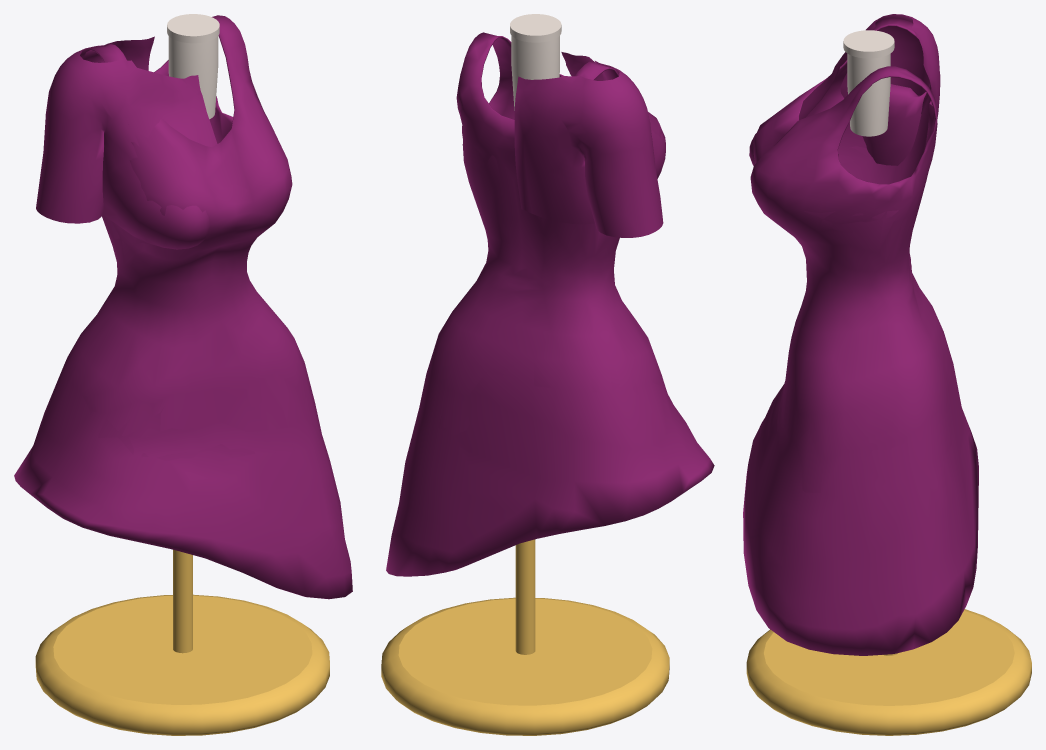
Rendered from rain.dress.plum-asymmetric.glb.
3 views of the same model, side by side, from view 1: azimuth 30°, elevation 25°; view 2: azimuth 150°, elevation 25°; view 3: azimuth 270°, elevation 25° (orthographic). The views are drawn at different scales.
Parts seen in each view (by area): view 1: Tailored.Dress.plum-asymmetric.Fabric, stand_base, Tailored.Dress.plum-asymmetric.Cape, stand_torso, stand_stem, stand_neck_cap; view 2: Tailored.Dress.plum-asymmetric.Fabric, stand_base, Tailored.Dress.plum-asymmetric.Cape, stand_stem, stand_torso, stand_neck_cap; view 3: Tailored.Dress.plum-asymmetric.Fabric, stand_base, Tailored.Dress.plum-asymmetric.Cape, stand_torso, stand_neck_cap.
Part boxes in pixels (x1,y1,x2,y2): Tailored.Dress.plum-asymmetric.Fabric: (14, 15, 352, 599); stand_base: (35, 594, 329, 735); Tailored.Dress.plum-asymmetric.Cape: (36, 36, 217, 249); stand_torso: (168, 36, 218, 119); stand_stem: (173, 549, 192, 653); stand_neck_cap: (167, 14, 219, 43); Tailored.Dress.plum-asymmetric.Fabric: (386, 32, 714, 576); stand_base: (381, 597, 669, 735); Tailored.Dress.plum-asymmetric.Cape: (514, 52, 665, 237); stand_stem: (515, 539, 535, 654); stand_torso: (511, 35, 559, 110); stand_neck_cap: (510, 14, 561, 42); Tailored.Dress.plum-asymmetric.Fabric: (743, 18, 978, 655); stand_base: (746, 609, 1031, 735); Tailored.Dress.plum-asymmetric.Cape: (749, 14, 940, 165); stand_torso: (847, 53, 890, 136); stand_neck_cap: (843, 30, 894, 58).
Size of the model in its own units: 0.3449 by 0.75 by 0.3065.
